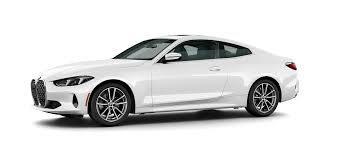car: (31, 34, 303, 120)
